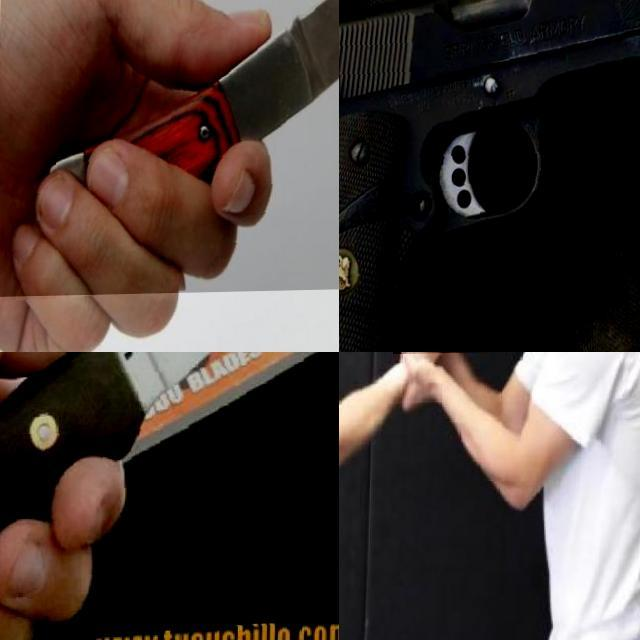-: (0, 0, 339, 297), (0, 352, 339, 640), (394, 352, 508, 394)
gun-knife-thesis - v11 Yolov5 augmented: (339, 0, 640, 352)
